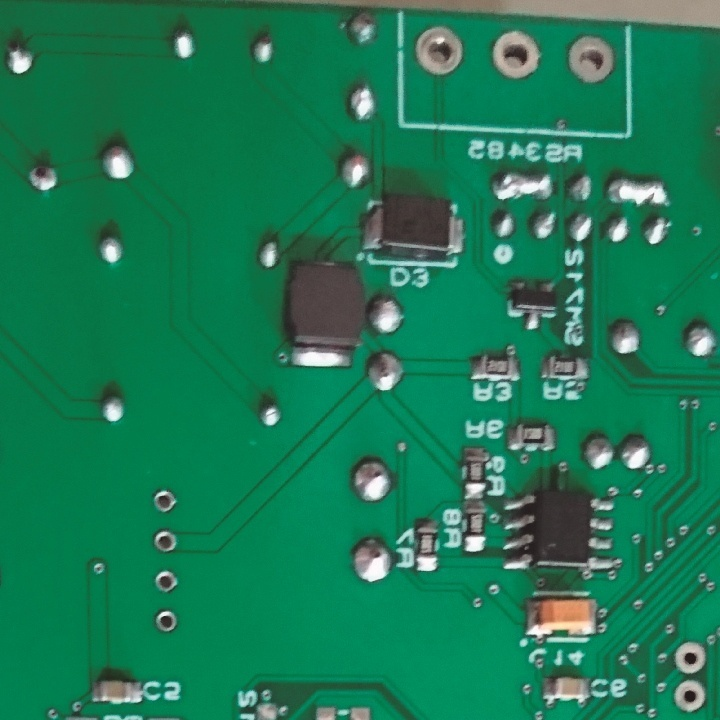F: (491, 27, 547, 86), (566, 31, 618, 86), (412, 25, 465, 76), (673, 640, 708, 677), (672, 677, 706, 715), (151, 487, 179, 514), (151, 608, 179, 635), (150, 568, 180, 593), (150, 530, 178, 555)
P: (599, 171, 673, 209), (487, 166, 561, 202)
